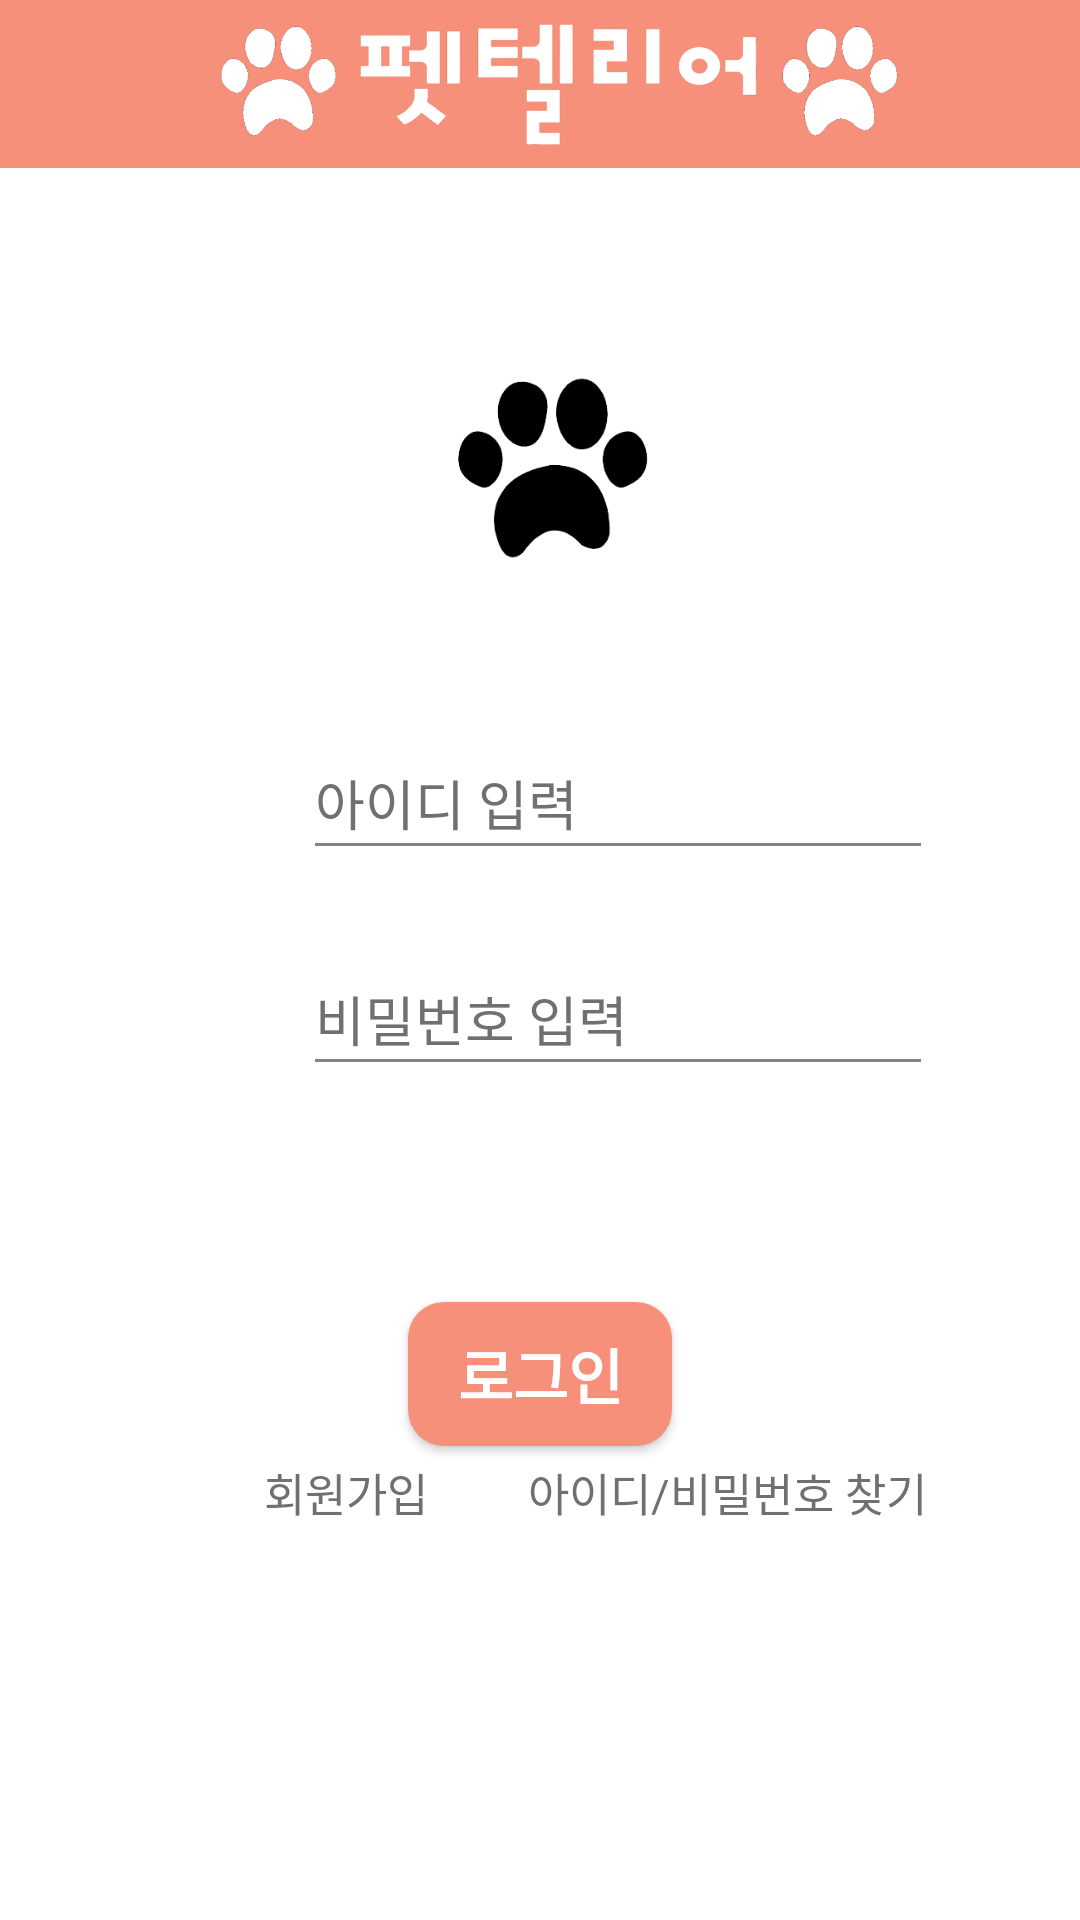

Named icons in this screenshot (1080×1920) and their centers, (x,y):
balbadak: (553,468)
